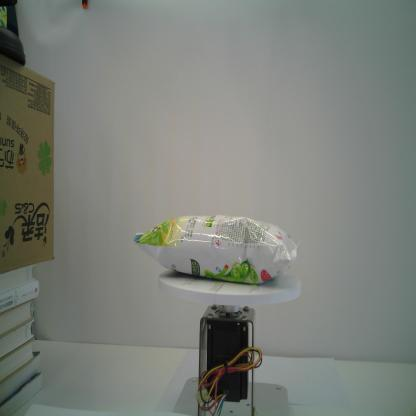Puffed Food: (134, 214, 300, 285)
